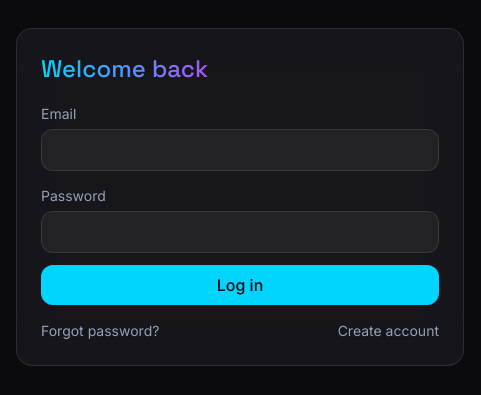
Test: Login page › shows an error when login fails
Expected: the text "Welcome back" is shown, [41, 53, 208, 84]
Type "a@x.io" into the field labelled "Email" at (240, 150), box [41, 129, 439, 171]
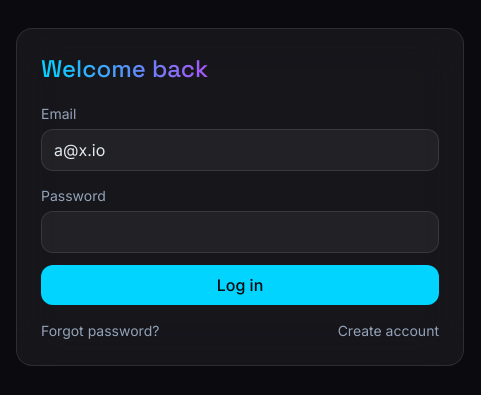
Type "wrong" into the password field labelled "Password" at (240, 232), box [41, 211, 439, 253]
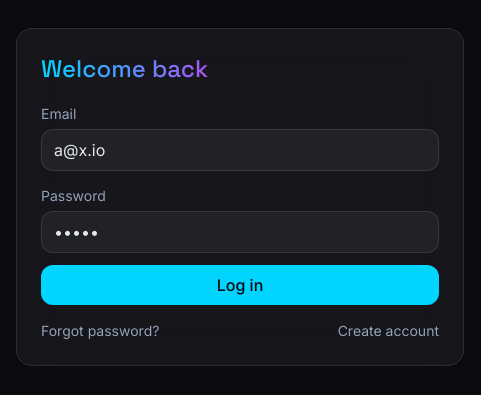
Click the button "Log in" at (240, 285), box [41, 265, 439, 305]
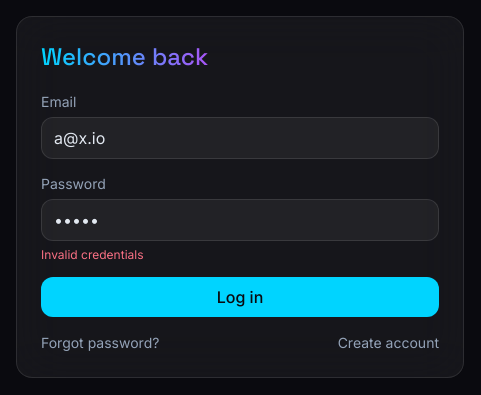
Expected: the message reads "Invalid credentials", [41, 247, 144, 262]
